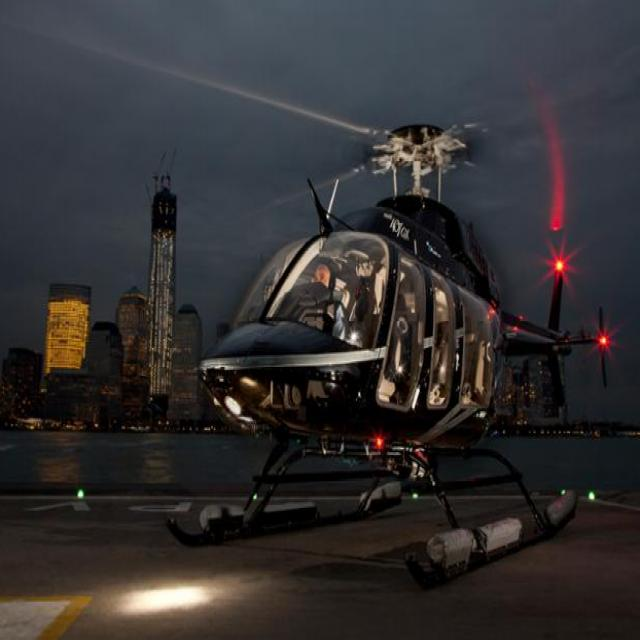helicopter: (143, 60, 616, 568)
